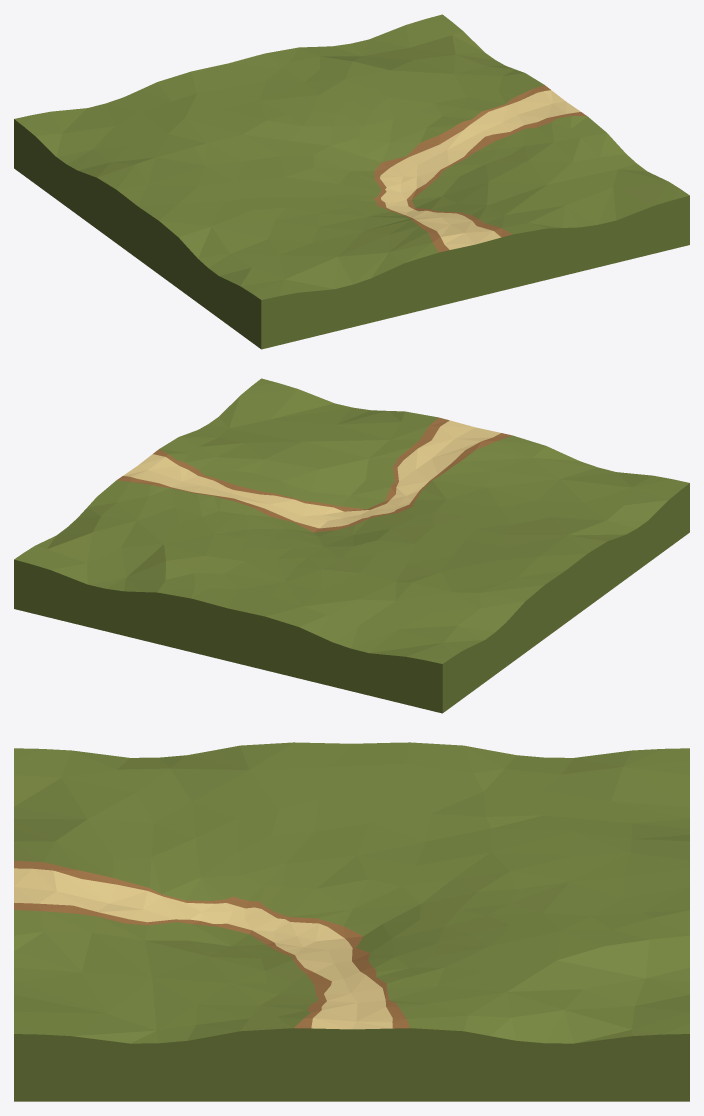
File: Terrian_Road_Bend_Flat-03.fbx
3 renders of one model, top to bottom at view 1: azimuth 30°, elevation 25°; view 2: azimuth 150°, elevation 25°; view 3: azimuth 270°, elevation 25°, orthographic. The views are drawn at different scales.
Parts seen in each view (by area): view 1: Terrian_Road_Bend_Flat-03; view 2: Terrian_Road_Bend_Flat-03; view 3: Terrian_Road_Bend_Flat-03.
Boxes of the visible parts, x1,y1,x2,y2 form: Terrian_Road_Bend_Flat-03: (14, 14, 689, 349); Terrian_Road_Bend_Flat-03: (14, 378, 689, 713); Terrian_Road_Bend_Flat-03: (14, 742, 689, 1101).
Size of the model in its own units: 3600 by 440 by 3600.
1 material, 1 textured.
